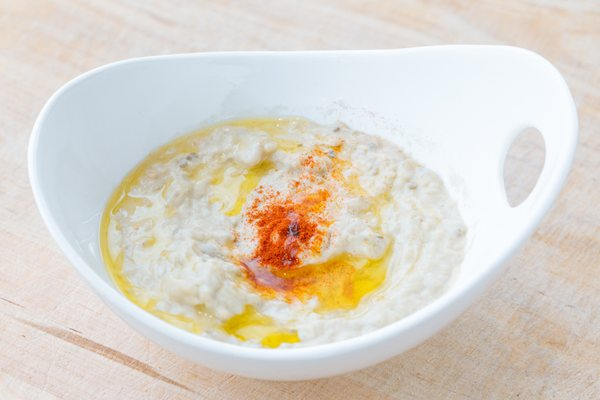sushi: (27, 50, 596, 381)
